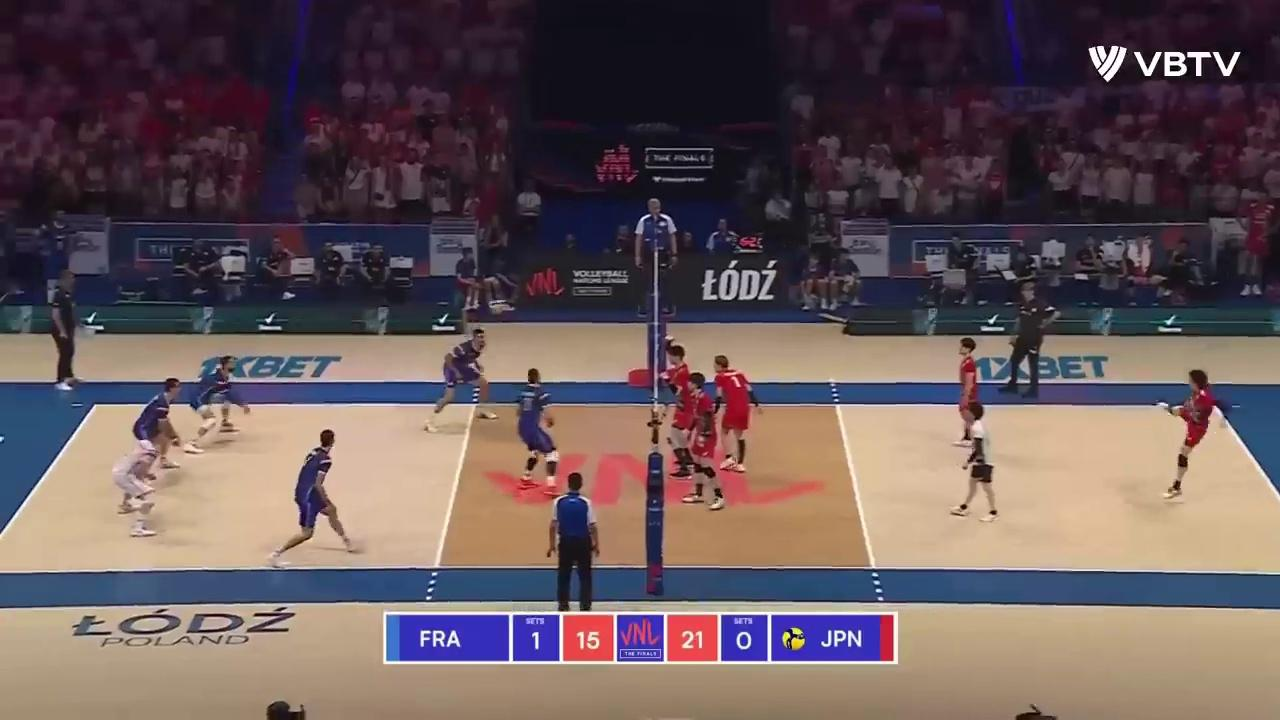ball: (491, 301, 506, 317)
